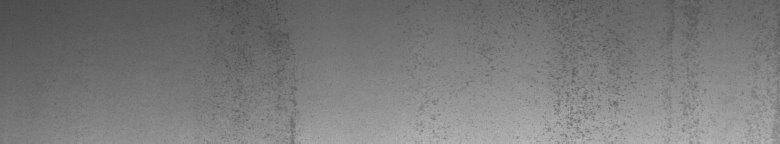ib: (508, 5, 703, 136)
